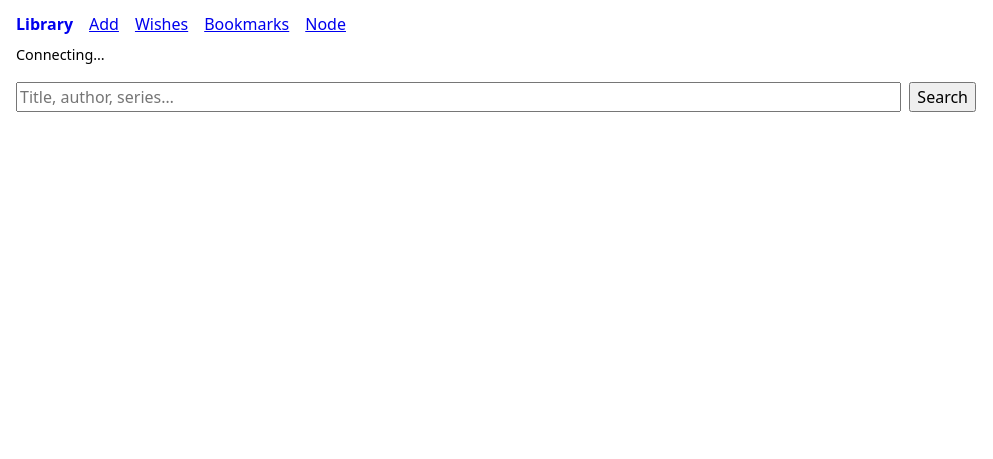
Test: the shell › opens the wishes from their link
The image size is (993, 459).
Click the link "Wishes" at (162, 24), box top-left (135, 12), bottom-right (188, 36)
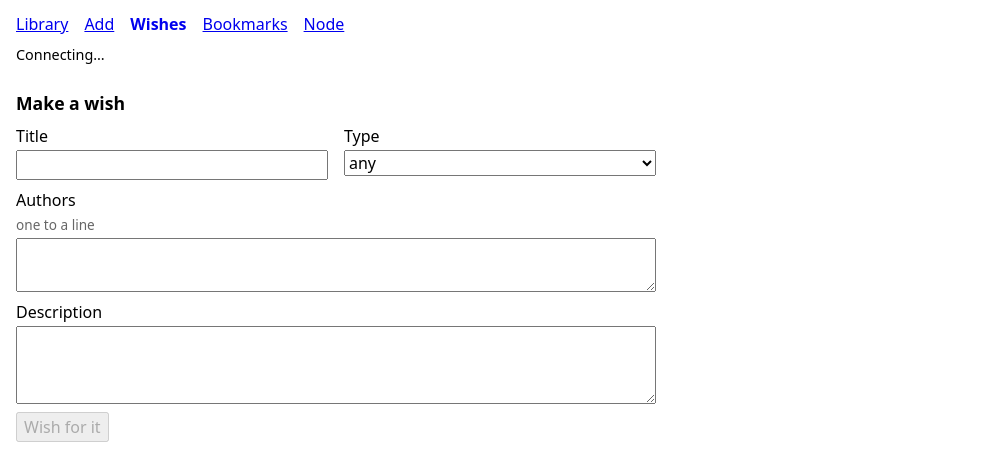
Expected: the heading "Make a wish" is shown, top-left (16, 91), bottom-right (125, 115)
